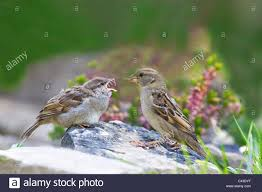hsparrow: (21, 75, 121, 150), (129, 69, 208, 156)
